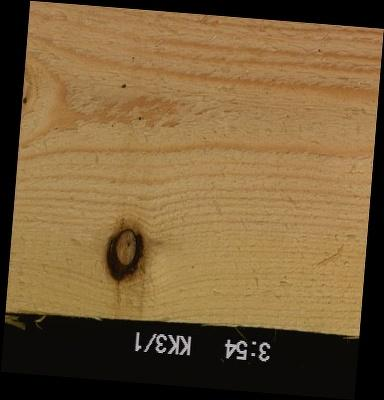small_knot: (21, 95, 28, 106)
